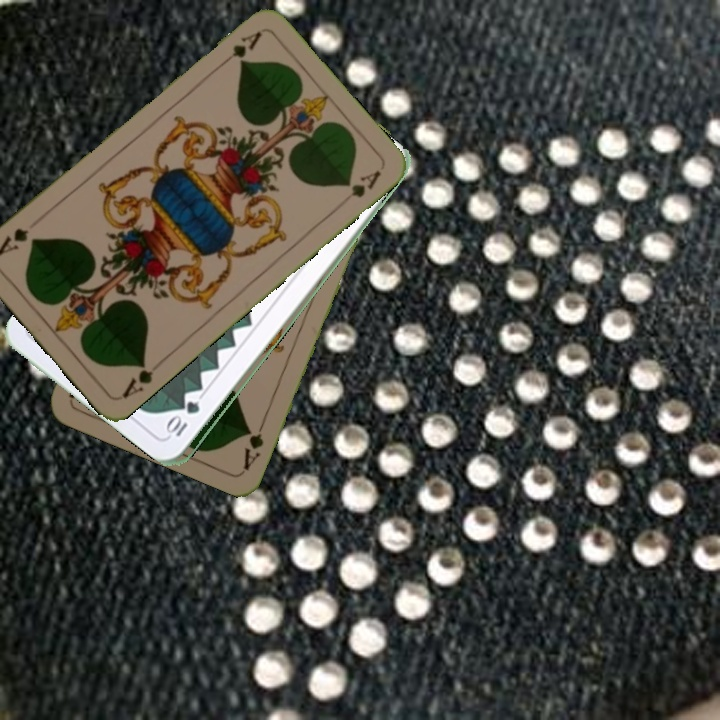G10: (165, 397, 203, 439)
GA: (215, 26, 265, 70), (117, 356, 156, 401), (239, 415, 268, 473)
